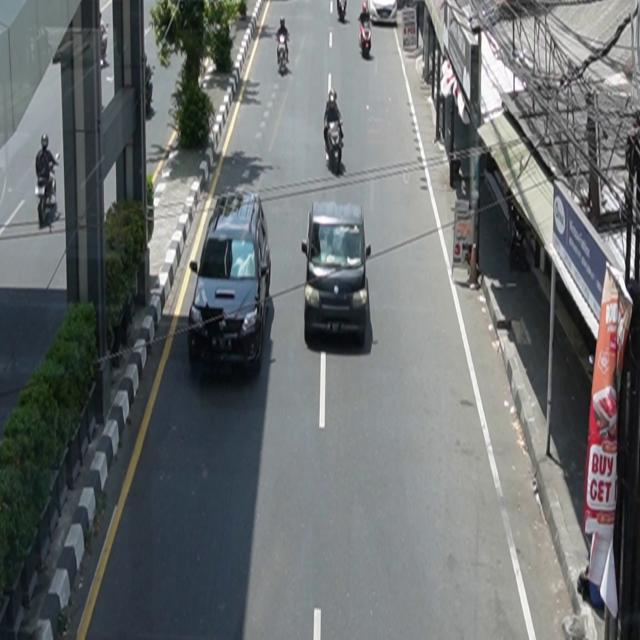car: (188, 190, 272, 376), (302, 202, 372, 346)
